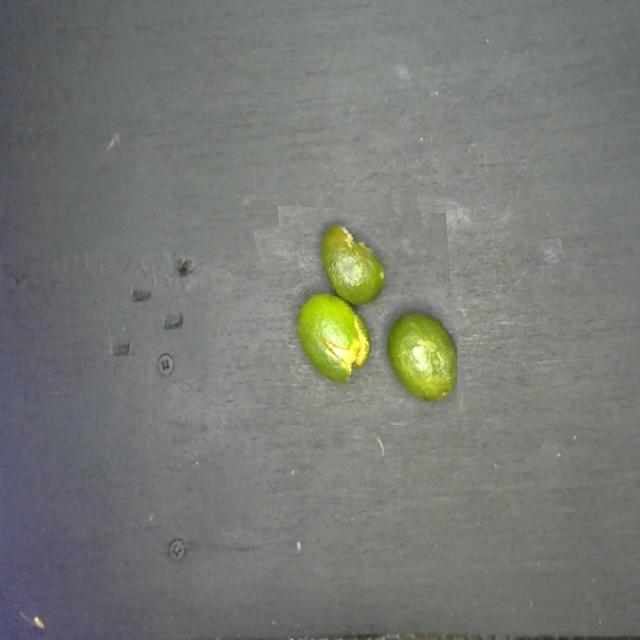biodegradable: (265, 196, 457, 425)
